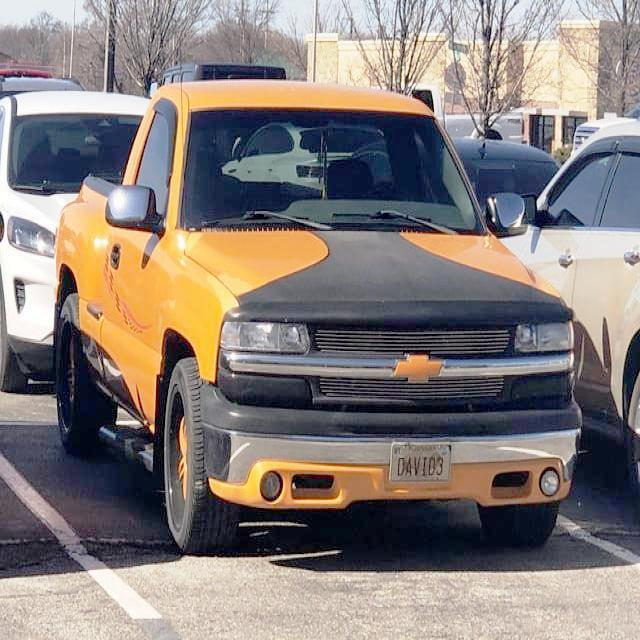license_plate: (386, 438, 458, 489)
